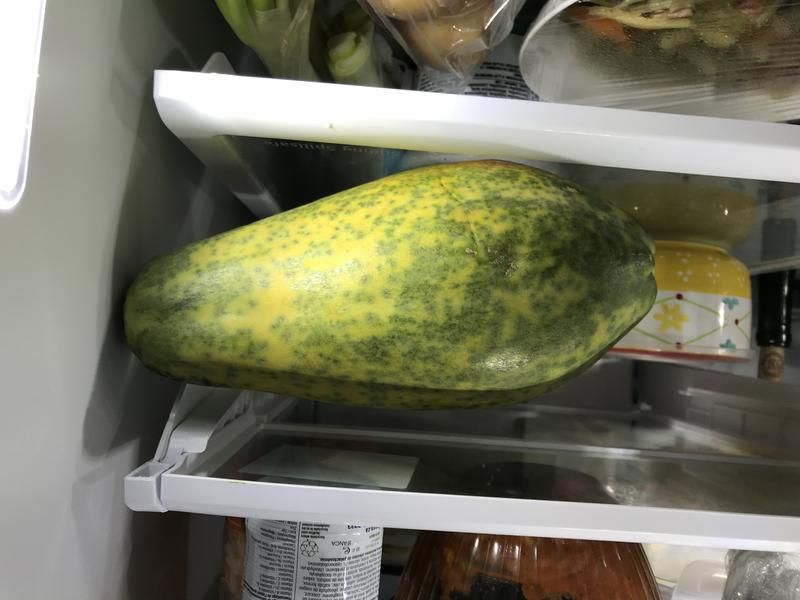papaya: (97, 150, 668, 421)
